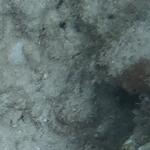dead: (4, 1, 148, 148)
